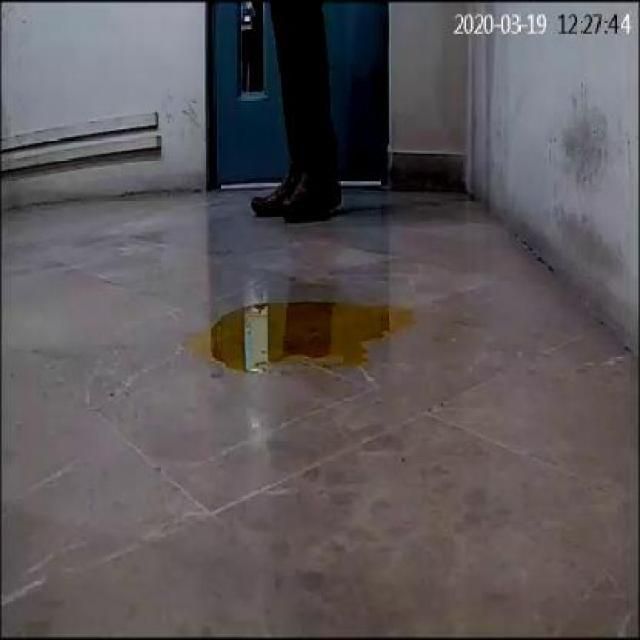spill: (194, 295, 422, 374)
